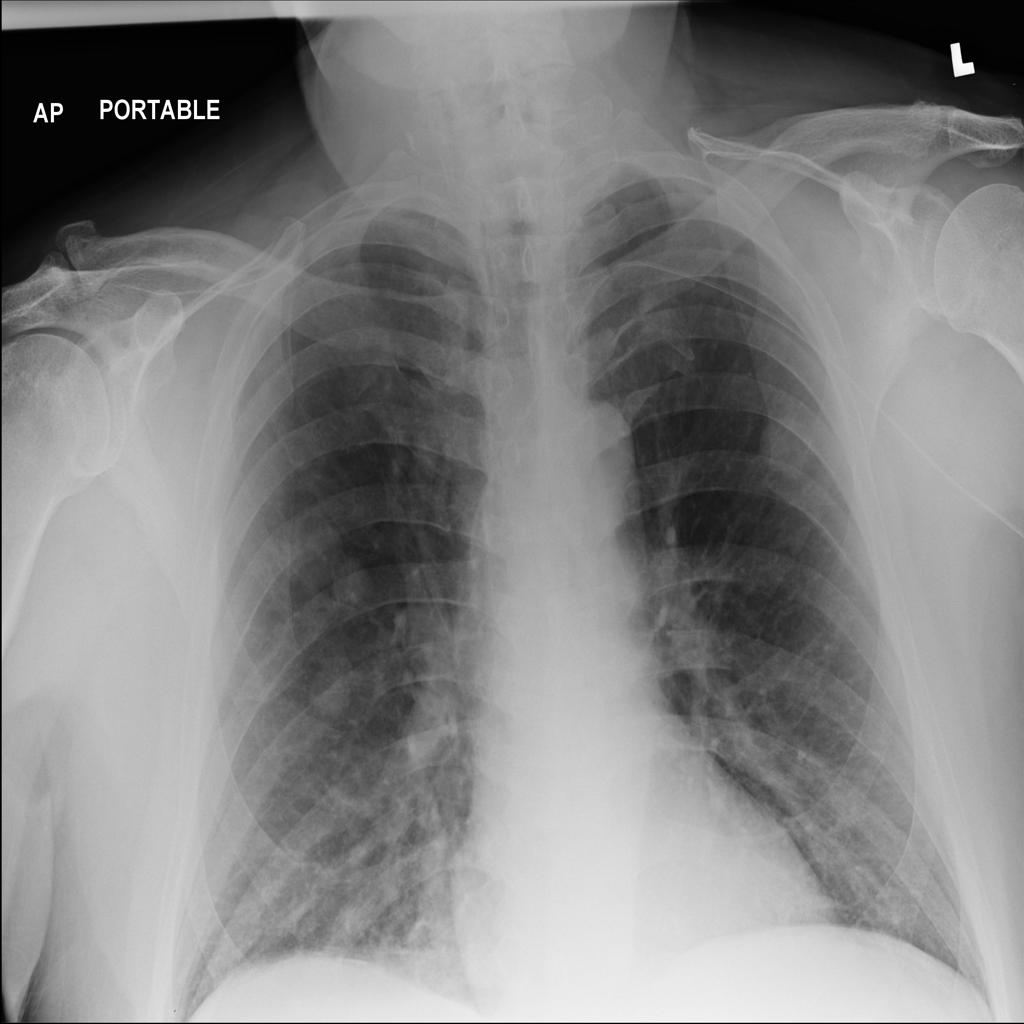nodule: (302, 649, 366, 733), (318, 545, 382, 621)
